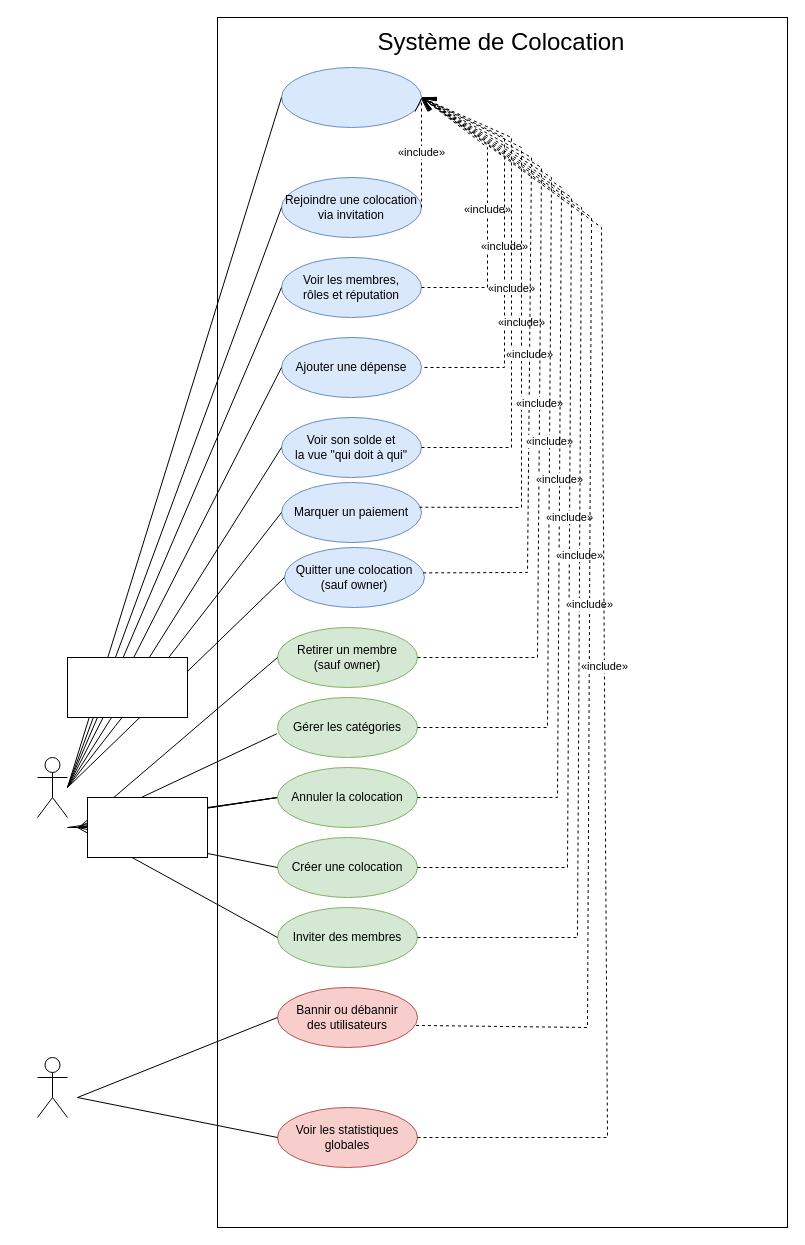
This 805x1245 diagram has some shape labels left out. The box of each missing label's shape, as (x1, y1, x2, y2) in pixels:
Global Admin: (36, 1056, 68, 1118)
member: (66, 656, 188, 718)
owner: (86, 796, 208, 858)
S'inscrire et se connecter: (280, 66, 422, 128)
user: (36, 756, 68, 818)
